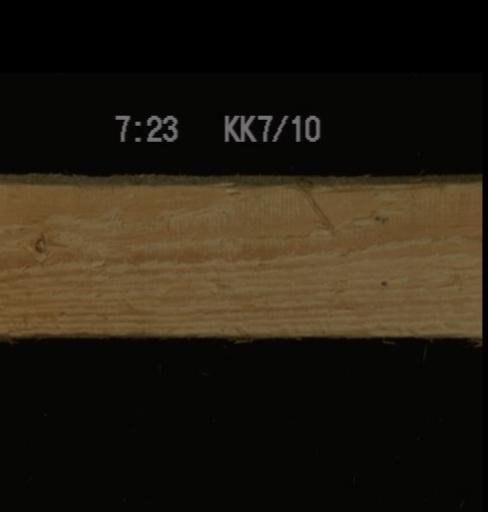small_knot: (28, 232, 47, 254)
